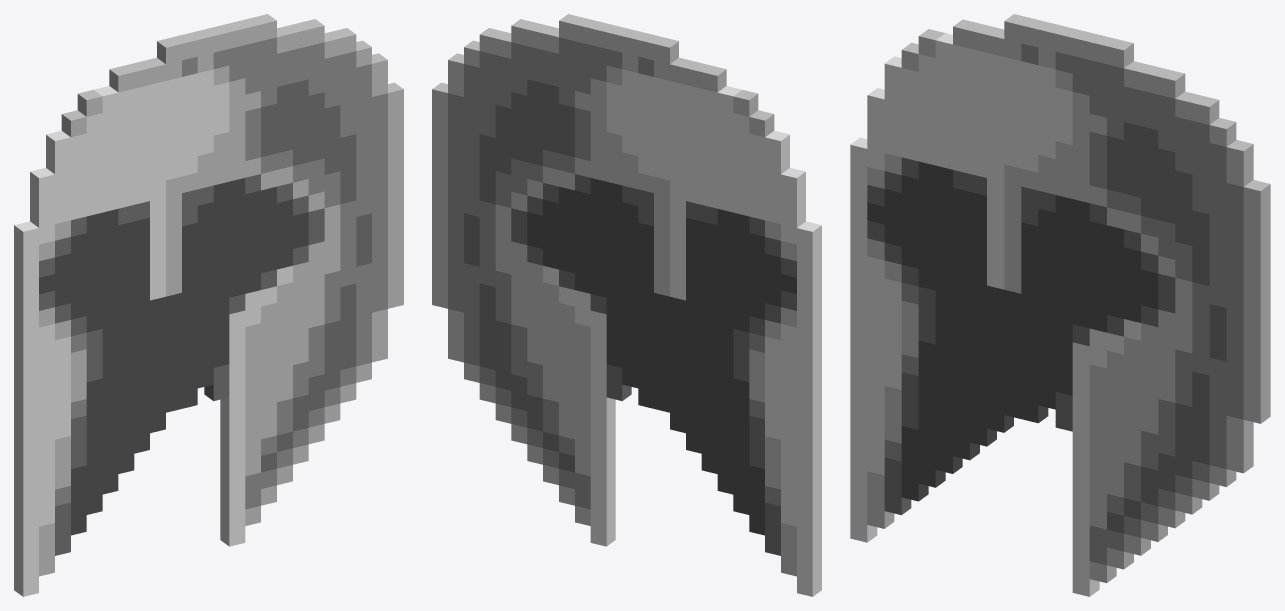
Rendered from C_Elm03.fbx.
The picture shows the model from 3 angles, left to right: view 1: azimuth 30°, elevation 25°; view 2: azimuth 150°, elevation 25°; view 3: azimuth 330°, elevation 25°; orthographic projection. The views are drawn at different scales.
Visible parts, largest first — view 1: Default; view 2: Default; view 3: Default.
Part boxes in pixels (x1,y1,x2,y2): Default: (14,14,403,596); Default: (432,14,821,596); Default: (850,14,1270,596).
Size of the model in its own units: 24 by 31 by 1.
Materials: 1 (1 with a texture image).
